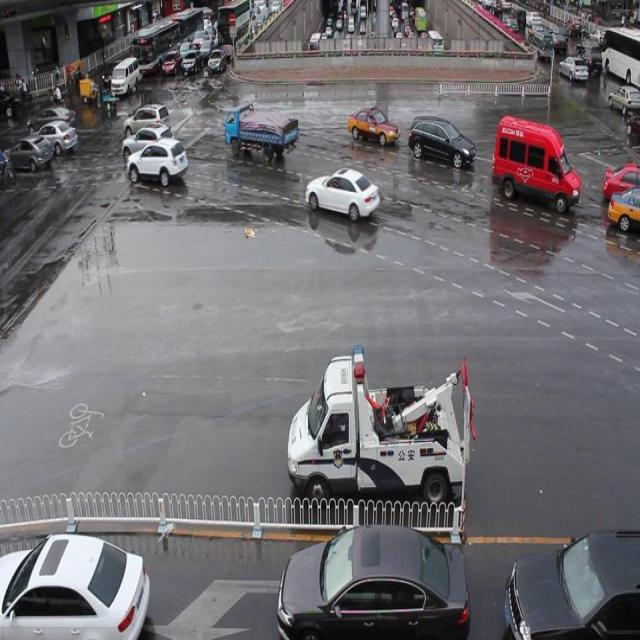BigCar: (222, 100, 296, 164), (604, 24, 640, 84), (134, 23, 164, 82)
car: (285, 340, 467, 499), (276, 524, 470, 640), (498, 526, 640, 640), (0, 539, 157, 640), (494, 109, 587, 222), (305, 166, 380, 230), (410, 108, 478, 178), (124, 139, 188, 200), (346, 102, 398, 155), (606, 188, 640, 240), (123, 122, 172, 154), (12, 136, 52, 173), (122, 104, 170, 134), (42, 120, 77, 157), (557, 52, 590, 88), (600, 161, 636, 192), (111, 60, 138, 98), (528, 28, 553, 66), (610, 82, 637, 116), (161, 46, 181, 80), (206, 49, 223, 79), (182, 51, 200, 77)
